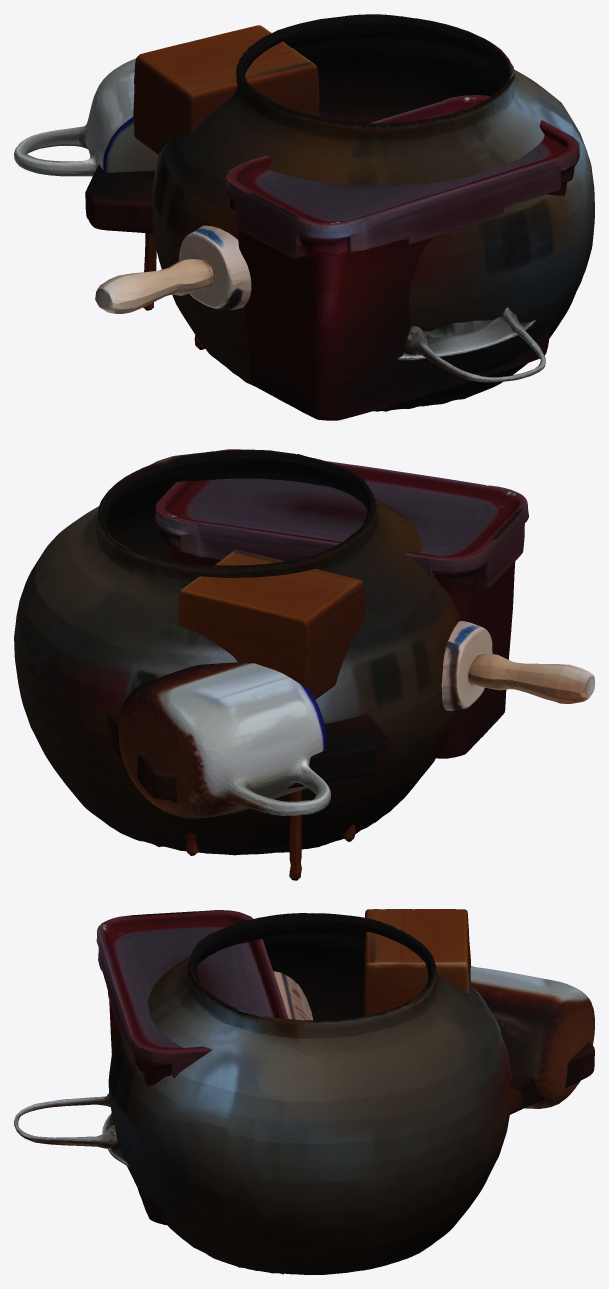
Rendered from scenegen.glb.
3 renders of one model, top to bottom at view 1: azimuth 30°, elevation 25°; view 2: azimuth 150°, elevation 25°; view 3: azimuth 270°, elevation 25°, orthographic. The views are drawn at different scales.
Visible parts, largest first — view 1: geometry_1, geometry_2, geometry_0, geometry_5, geometry_3, geometry_6, geometry_4; view 2: geometry_1, geometry_2, geometry_3, geometry_0, geometry_5, geometry_4; view 3: geometry_1, geometry_2, geometry_3, geometry_0, geometry_6, geometry_4, geometry_5.
Boxes of the visible parts, x1,y1,x2,y2 form: geometry_1: (152, 14, 594, 411); geometry_2: (225, 95, 579, 420); geometry_0: (133, 25, 319, 349); geometry_5: (95, 225, 251, 313); geometry_3: (14, 58, 158, 176); geometry_6: (397, 307, 545, 382); geometry_4: (85, 113, 385, 233); geometry_1: (14, 449, 460, 855); geometry_2: (155, 449, 528, 758); geometry_3: (118, 662, 330, 818); geometry_0: (177, 550, 364, 880); geometry_5: (441, 621, 594, 710); geometry_4: (105, 713, 389, 802); geometry_1: (108, 913, 511, 1274); geometry_2: (96, 910, 288, 1225); geometry_3: (470, 966, 594, 1108); geometry_0: (363, 909, 470, 1016); geometry_6: (14, 1093, 129, 1166); geometry_4: (509, 1042, 594, 1114); geometry_5: (273, 971, 313, 1020).
Bounding box in the file's own units: 1.77 × 0.967 × 1.96.
7 materials, 7 textured.
